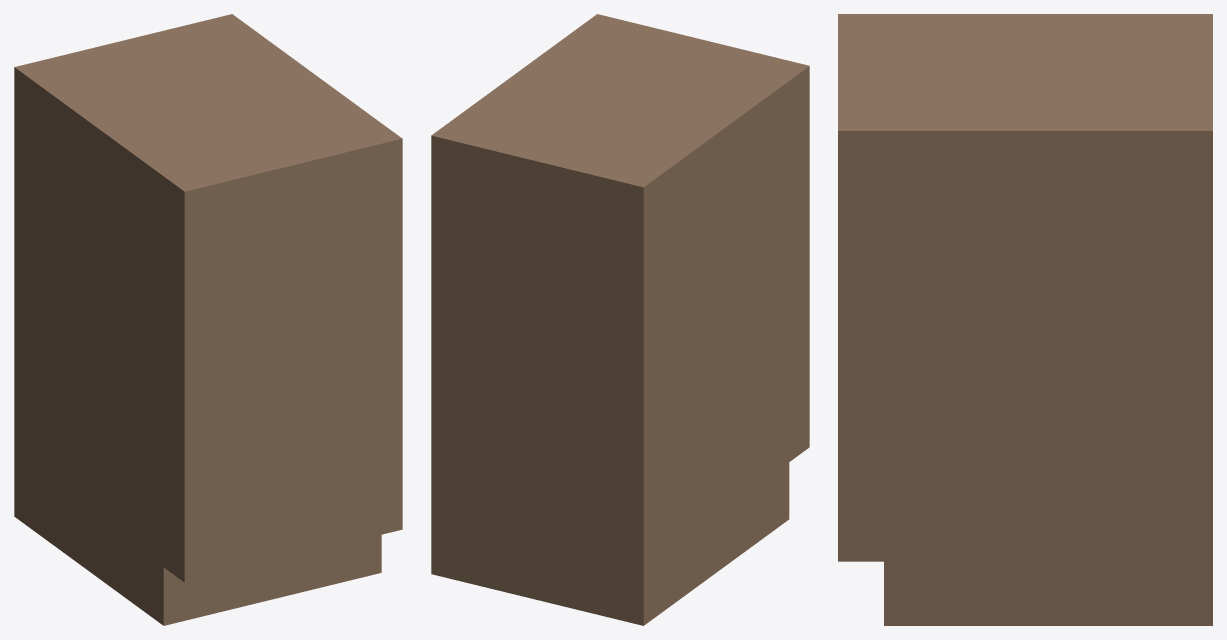
Rendered from base_cabinet_06.obj.
3 renders of one model, left to right at view 1: azimuth 30°, elevation 25°; view 2: azimuth 150°, elevation 25°; view 3: azimuth 270°, elevation 25°, orthographic. The views are drawn at different scales.
Visible parts, largest first — view 1: base_cabinet_06; view 2: base_cabinet_06; view 3: base_cabinet_06.
Boxes of the visible parts, x1,y1,x2,y2 form: base_cabinet_06: [14, 14, 402, 625]; base_cabinet_06: [431, 14, 809, 625]; base_cabinet_06: [838, 14, 1212, 625].
Bounding box in the file's own units: 457 × 902 × 619.
